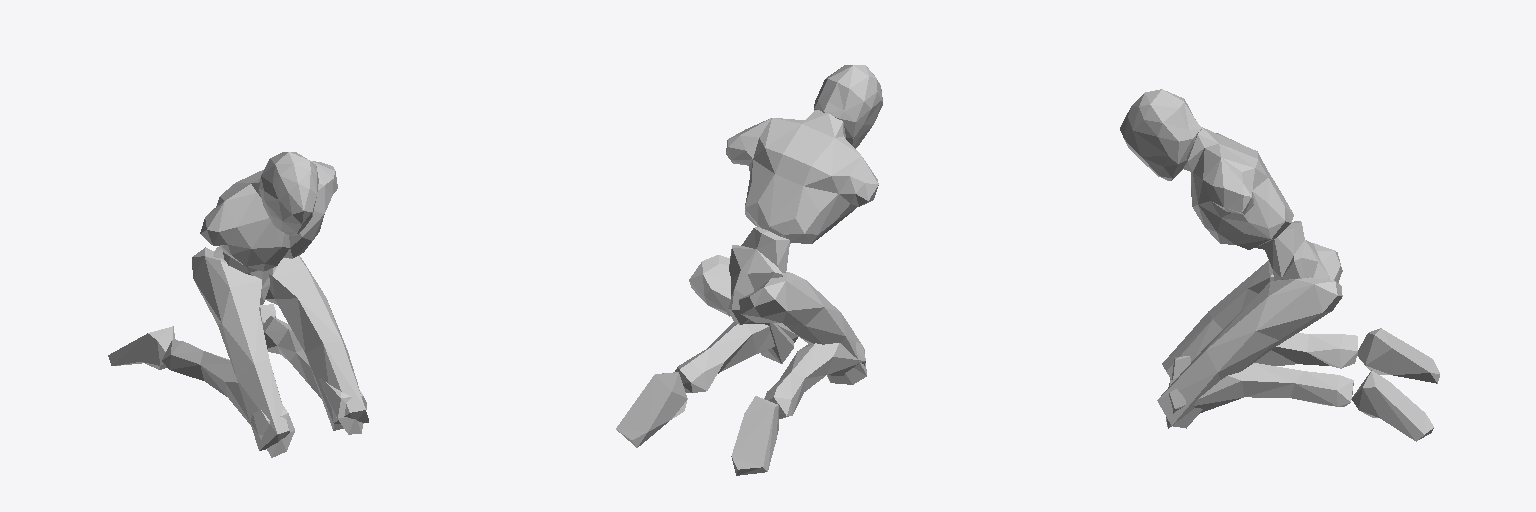
Rendered from filth49.obj.
3 renders of one model, left to right at view 1: azimuth 30°, elevation 25°; view 2: azimuth 150°, elevation 25°; view 3: azimuth 270°, elevation 25°, orthographic.
Visible parts, largest first — view 1: Melee_Husk; view 2: Melee_Husk; view 3: Melee_Husk.
Boxes of the visible parts, x1,y1,x2,y2 form: Melee_Husk: [108, 152, 368, 457]; Melee_Husk: [616, 65, 882, 475]; Melee_Husk: [1120, 89, 1439, 441].
Bounding box in the file's own units: 23.34 × 42.91 × 40.56.